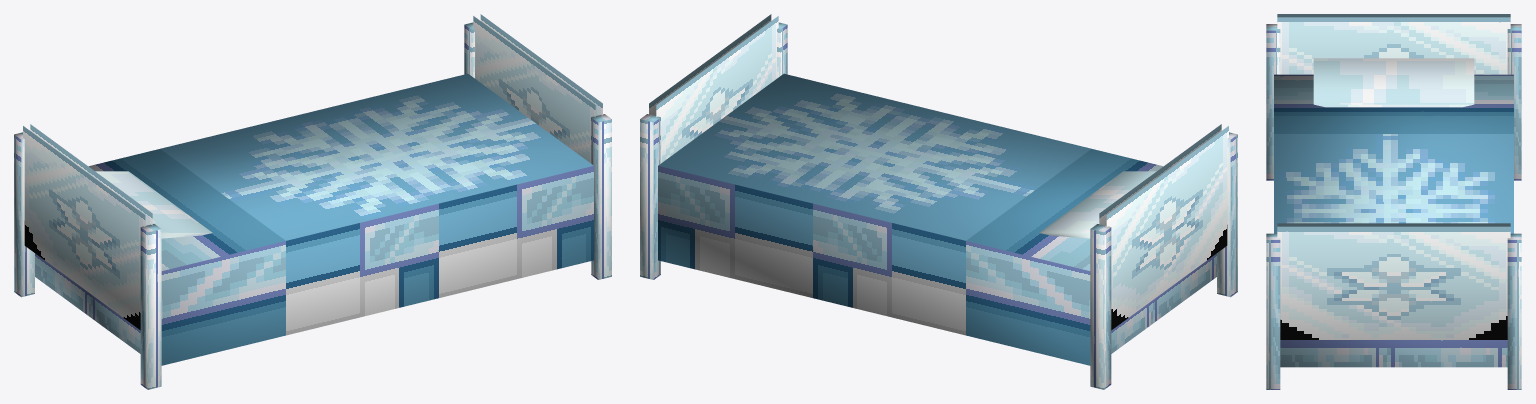
The picture shows the model from 3 angles, left to right: view 1: azimuth 30°, elevation 25°; view 2: azimuth 150°, elevation 25°; view 3: azimuth 270°, elevation 25°; orthographic projection. The views are drawn at different scales.
Visible parts, largest first — view 1: 3149IMFY03_01; view 2: 3149IMFY03_01; view 3: 3149IMFY03_01.
Part boxes in pixels (bbox=[...]): 3149IMFY03_01: bbox=[14, 14, 611, 389]; 3149IMFY03_01: bbox=[640, 14, 1237, 389]; 3149IMFY03_01: bbox=[1266, 14, 1521, 389].
Bounding box in the file's own units: 1.92 × 0.6702 × 0.958.
Materials: 4 (4 with a texture image).
